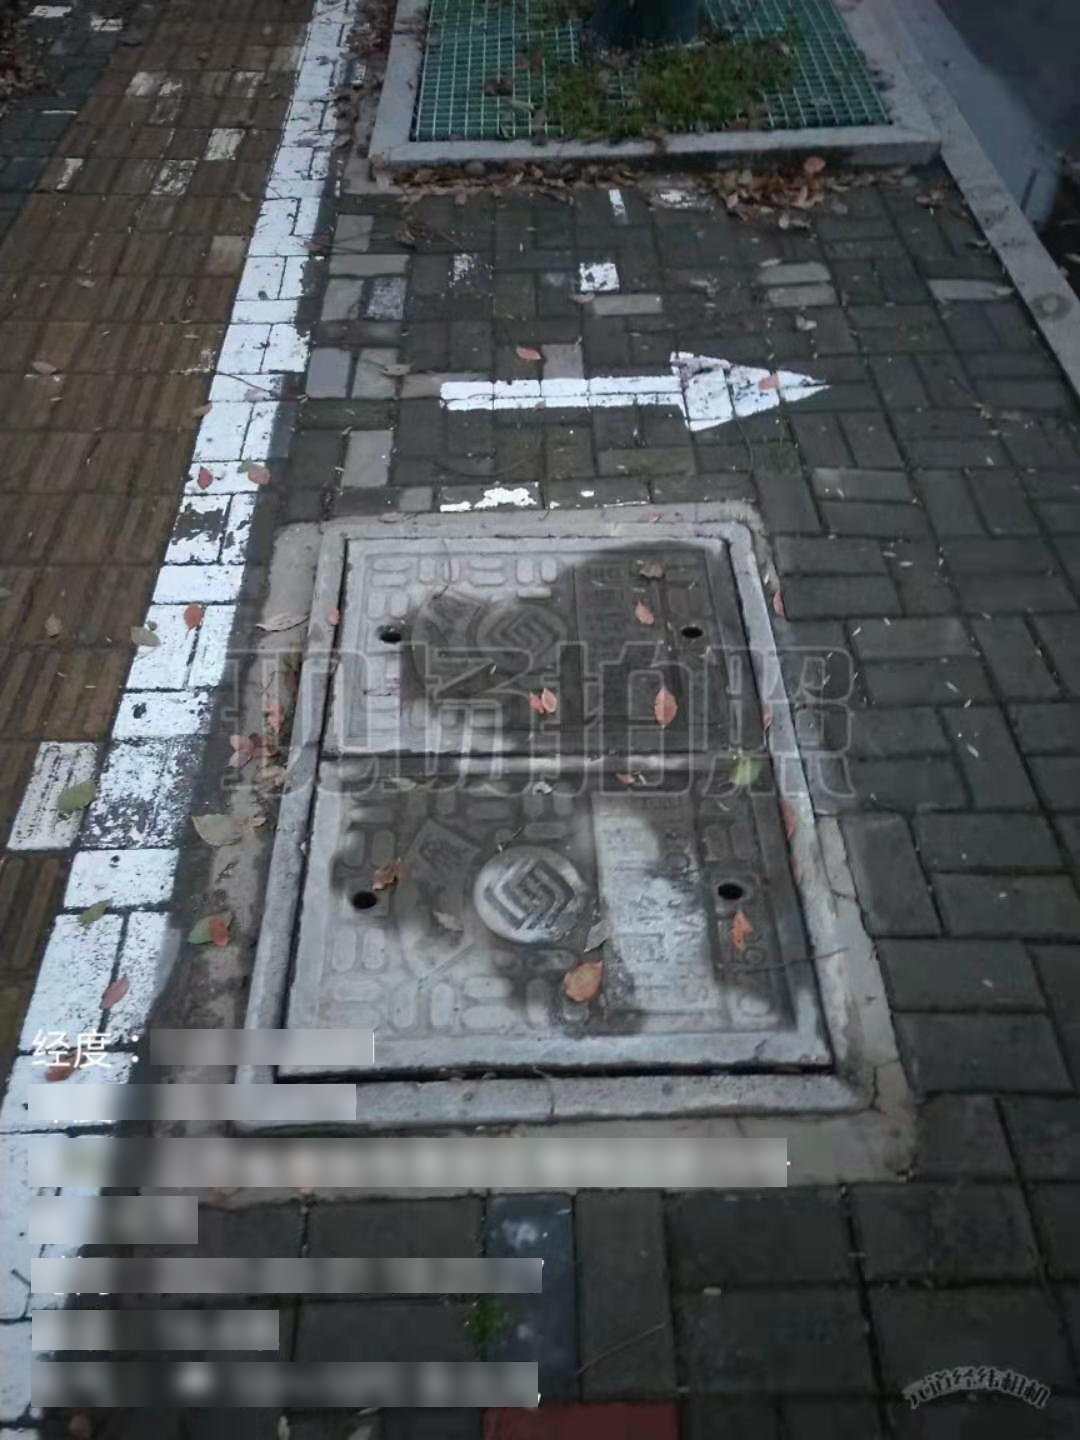good: (225, 520, 871, 1129)
